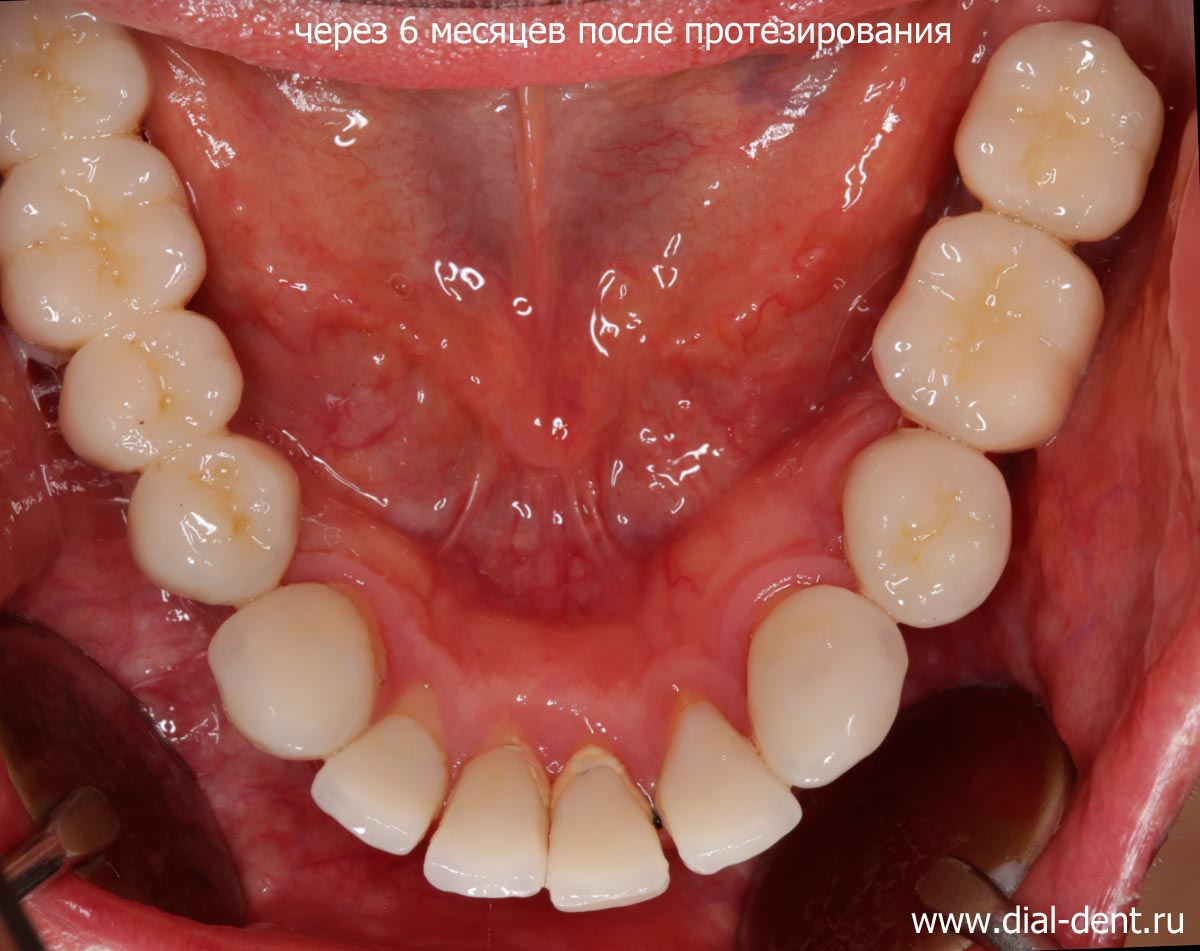LL1BC_healthy: (819, 426, 1010, 643)
LL1M_healthy: (953, 12, 1164, 240)
LL2BC_healthy: (872, 203, 1116, 454)
LLCI_healthy: (554, 742, 667, 921)
LLC_healthy: (731, 581, 903, 788)
LLLI_healthy: (638, 703, 798, 873)
LR1BC_decay: (124, 432, 306, 604)
LR1M_decay: (1, 137, 207, 359)
LR2BC_decay: (55, 309, 245, 474)
LR2M_decay: (1, 5, 153, 162)
LRCI_healthy: (426, 733, 553, 898)
LRC_healthy: (206, 582, 386, 762)
LRLI_healthy: (311, 710, 453, 860)
